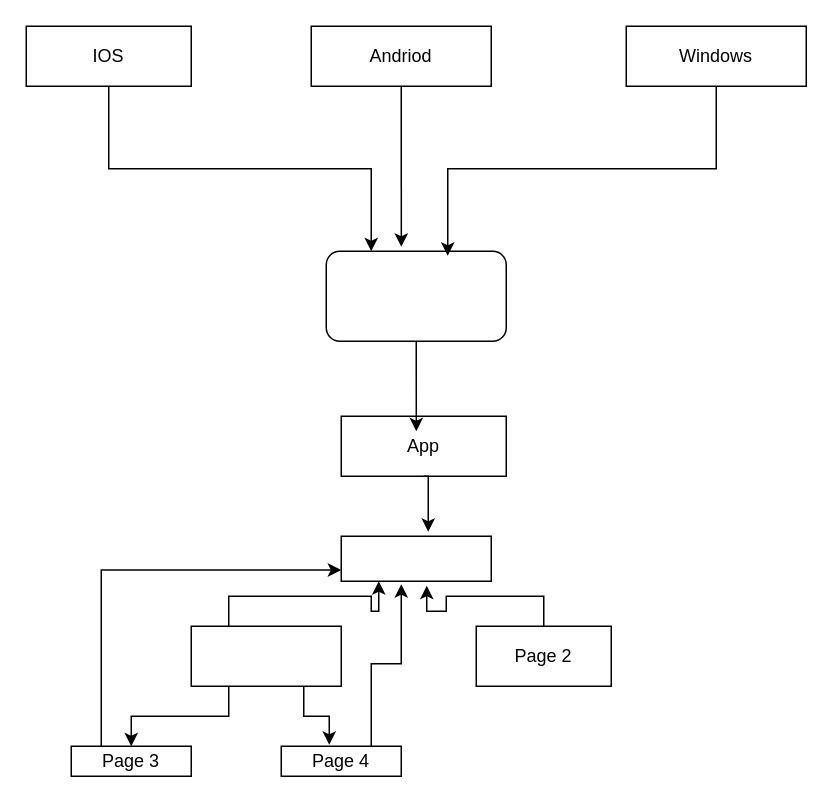
Some shapes in this 833 by 803 pixel diagram are drawn without their labels. The shapes that lost their labels are listed below. From the top down, each one's centre as x and y in pixels, then its label:
At (x=415, y=295): "MainProgram.cs".
At (x=415, y=558): "AppShell".
At (x=265, y=655): "Page 1".
